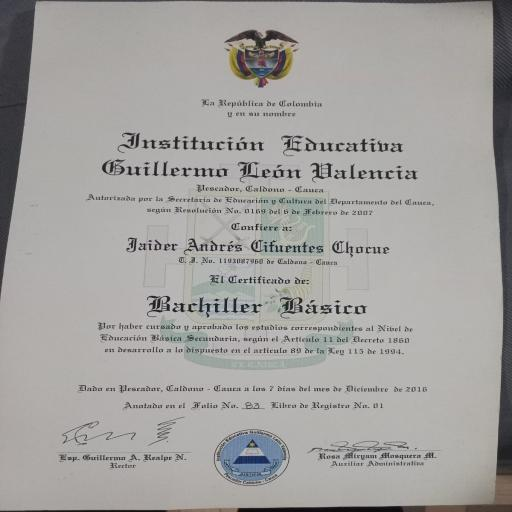bachillerato: (134, 288, 388, 321)
diploma: (0, 2, 501, 509)
escudo: (215, 21, 316, 95)
firma: (46, 410, 201, 470), (306, 423, 455, 473)
institucion: (87, 122, 435, 188)
nombre: (114, 229, 412, 262)
